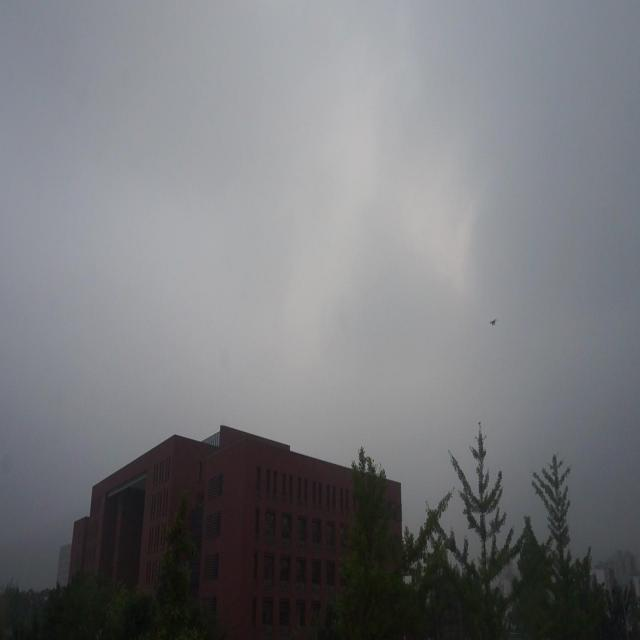UAV: (489, 318, 498, 327)
